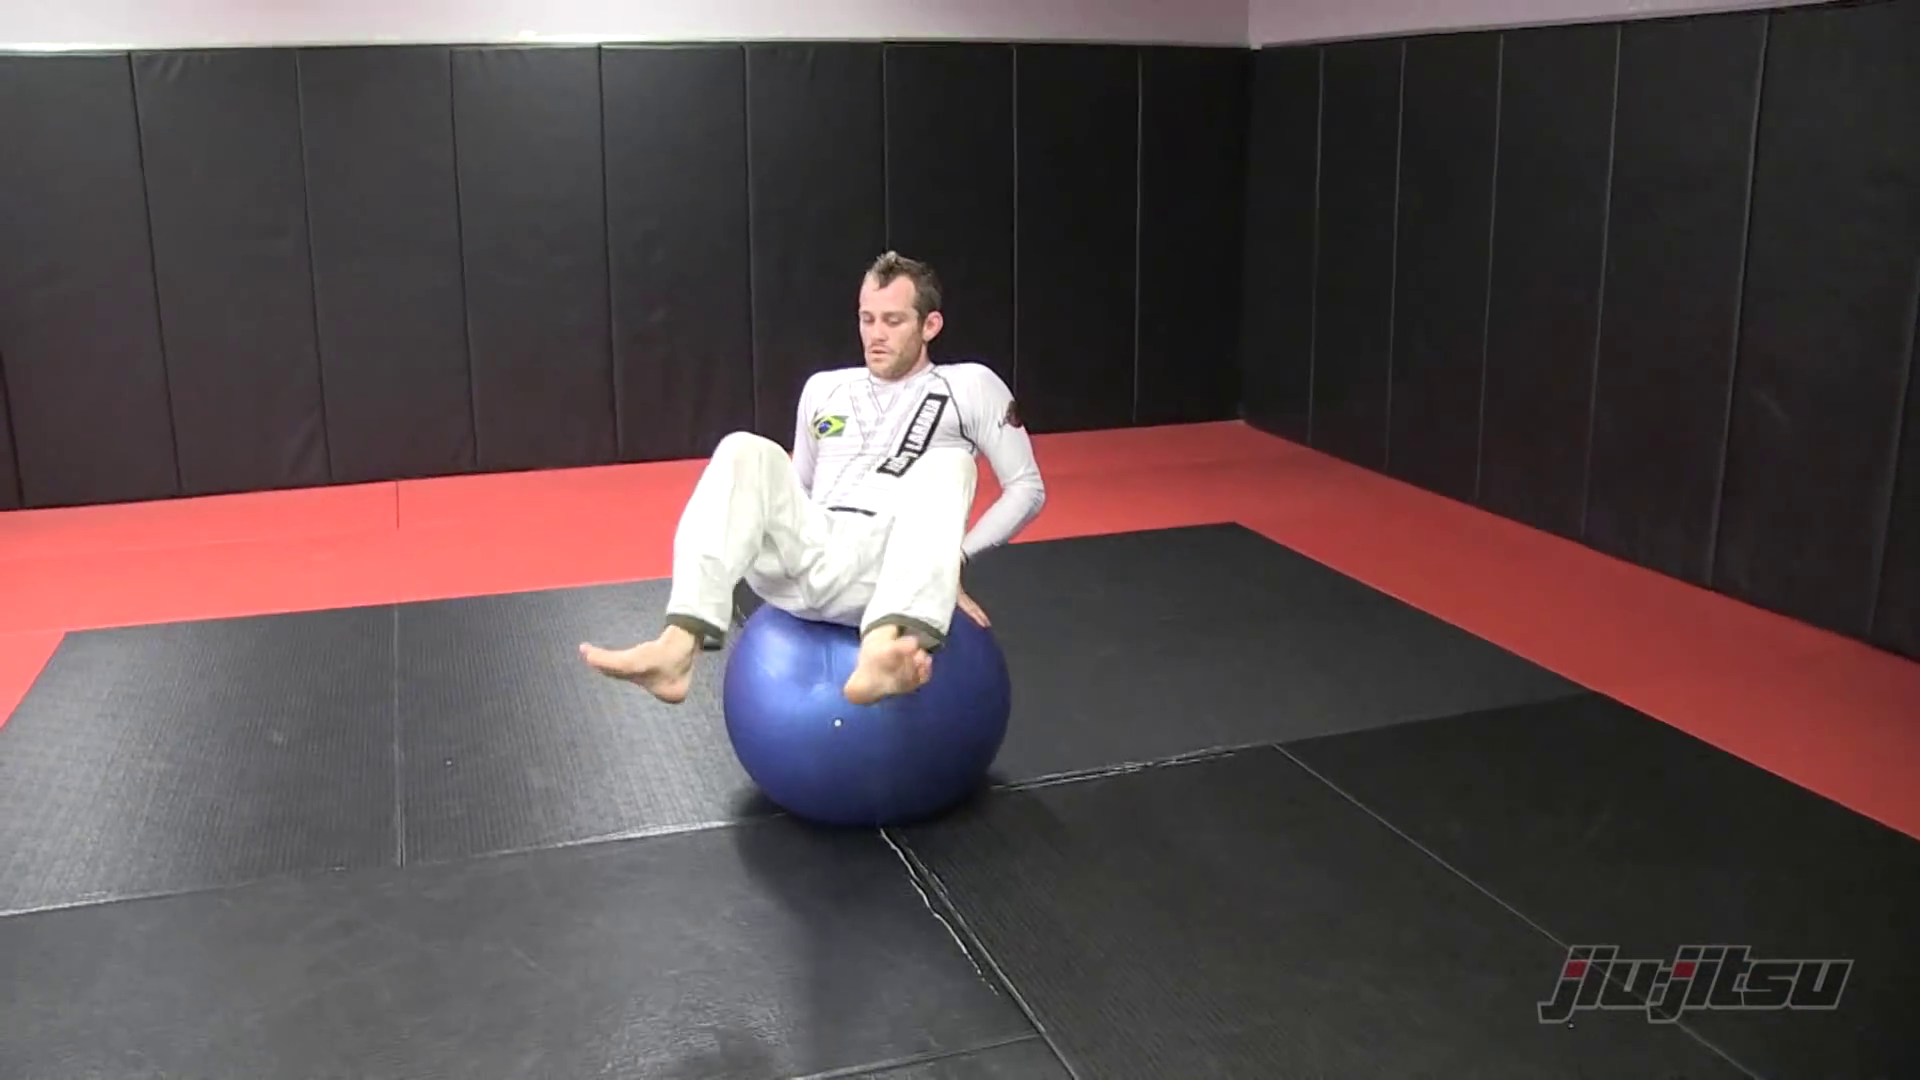yogaball: (703, 587, 1027, 832)
